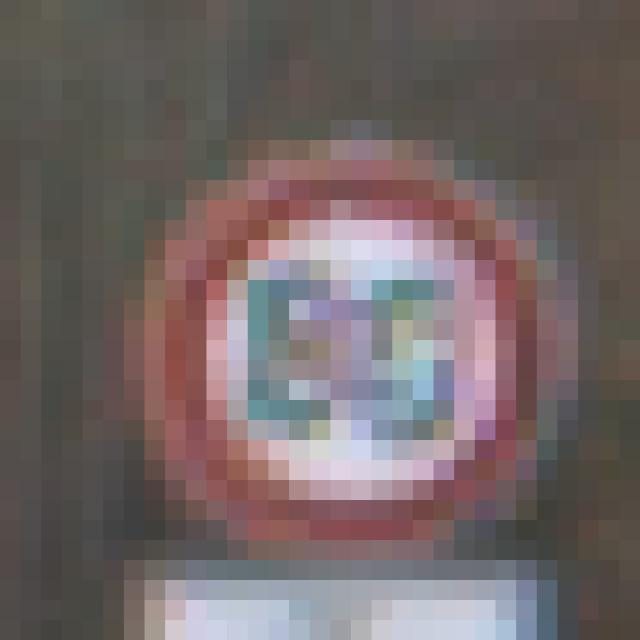Ograniczenie predkosci do 80: (146, 159, 559, 557)
